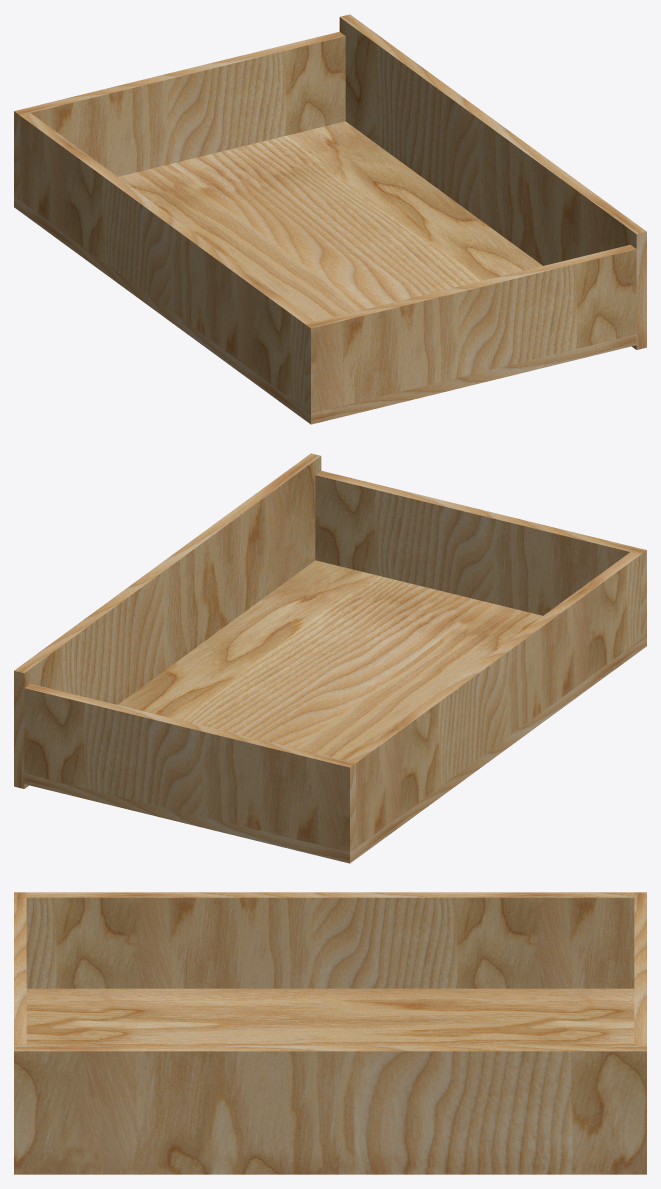
File: animated_bedroom_wardrobe_drawer_bottom.gltf
3 views of the same model, one above another, from view 1: azimuth 30°, elevation 25°; view 2: azimuth 150°, elevation 25°; view 3: azimuth 270°, elevation 25° (orthographic). The views are drawn at different scales.
Visible parts, largest first — view 1: DrawerBottom; view 2: DrawerBottom; view 3: DrawerBottom.
Part boxes in pixels (box(x1,y1,x2,y2)): DrawerBottom: box(14, 14, 646, 424); DrawerBottom: box(14, 453, 646, 863); DrawerBottom: box(14, 892, 646, 1174).
Size of the model in its own units: 0.516 by 0.17 by 0.79.
Materials: 1 (1 with a texture image).
